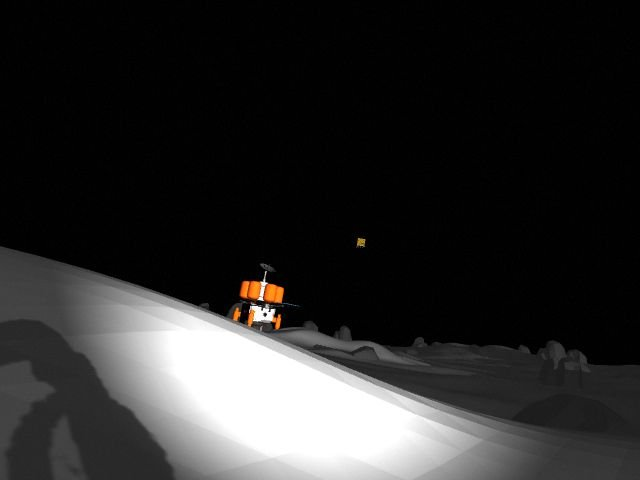homebase: (214, 260, 303, 355)
